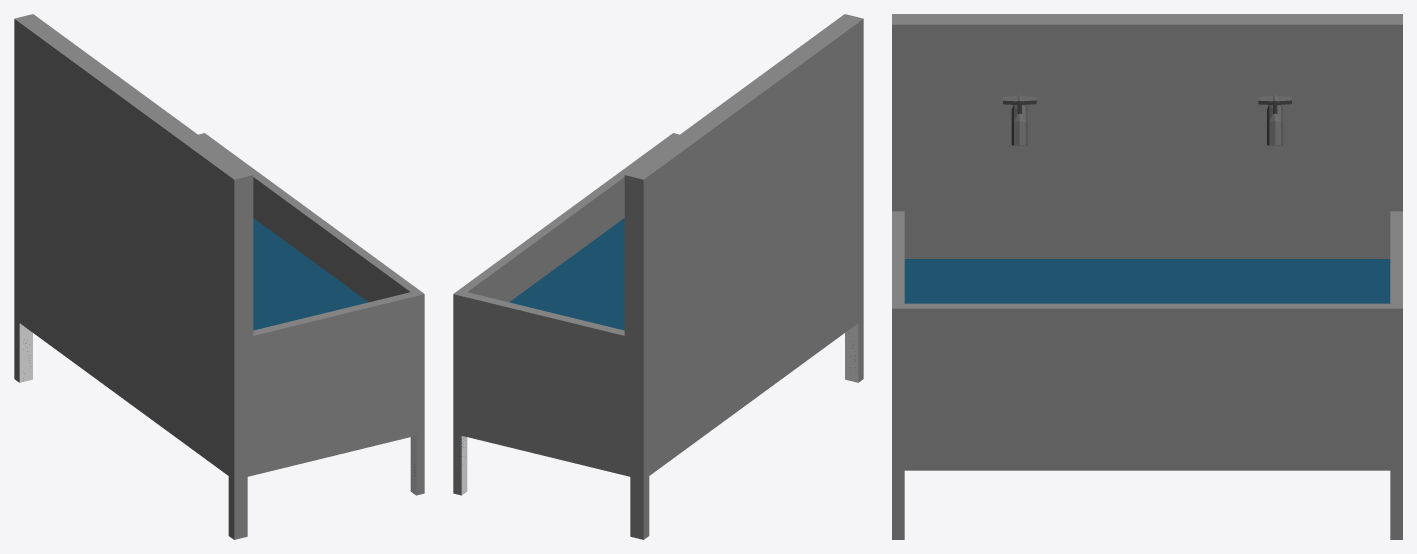
File: pizzeria_sink_mod_01.fbx
3 views of the same model, side by side, from view 1: azimuth 30°, elevation 25°; view 2: azimuth 150°, elevation 25°; view 3: azimuth 270°, elevation 25° (orthographic). The views are drawn at different scales.
Visible parts, largest first — view 1: Cube; view 2: Cube; view 3: Cube.
Part boxes in pixels (bbox=[...]): Cube: bbox=[14, 14, 424, 539]; Cube: bbox=[453, 14, 863, 539]; Cube: bbox=[892, 14, 1402, 539].
Bounding box in the file's own units: 4 × 2 × 3.61.
